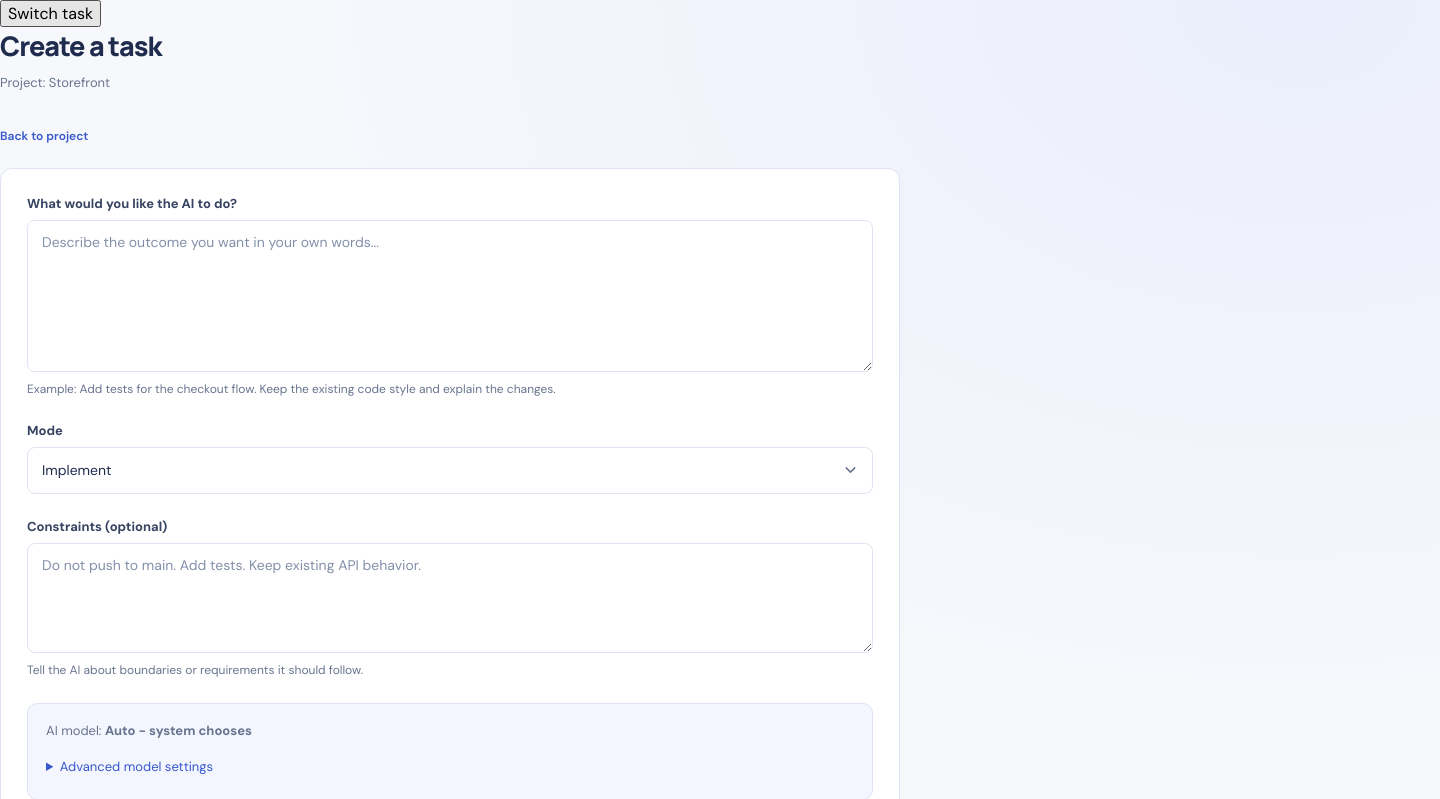
days 10–11 task creation › omits model metadata when backend configuration does not support selection
Type "Add tests" into the text box labelled "What would you like the AI to do?" at (450, 296), box [27, 220, 873, 372]
(page scrolled)
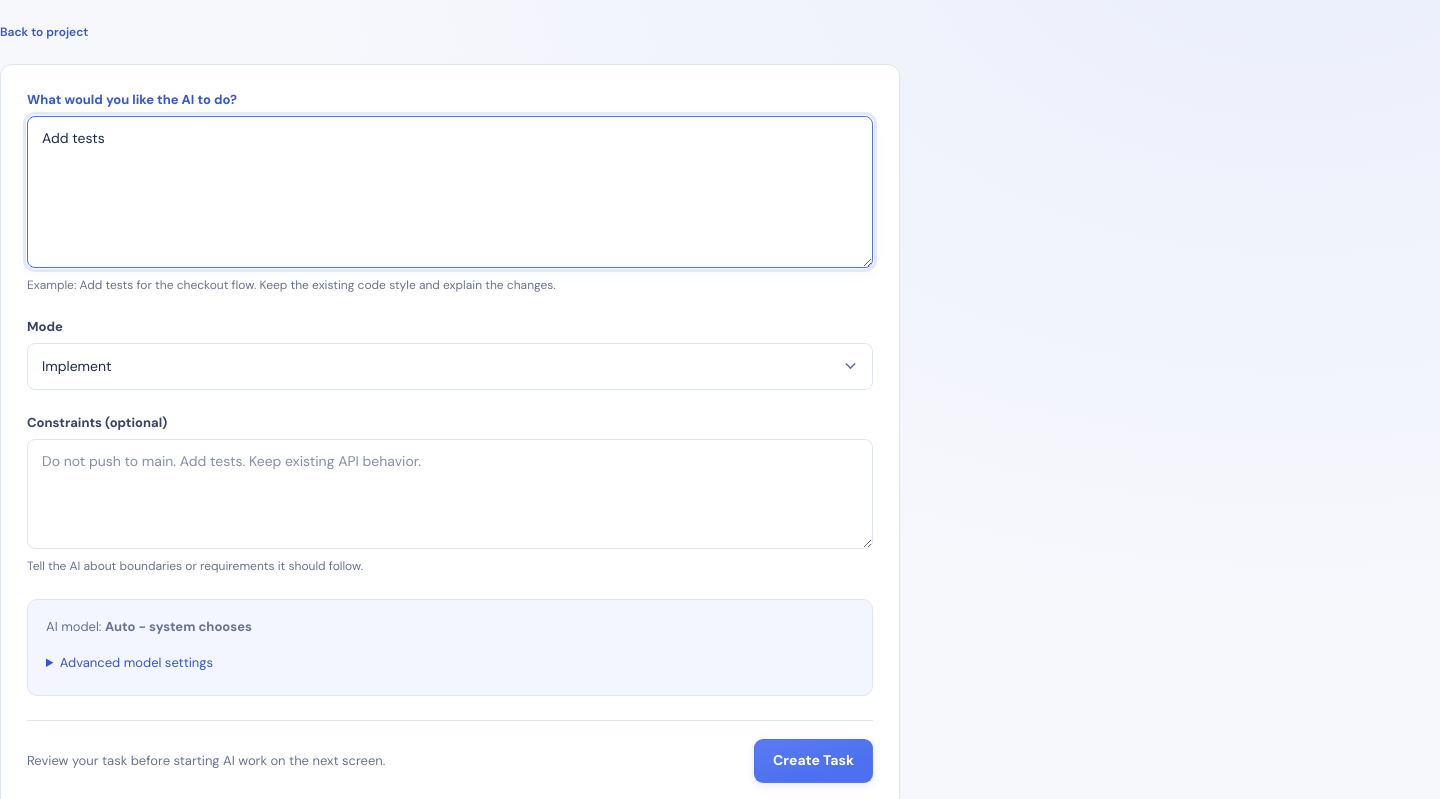
Click the button "Create Task" at (814, 761), box [754, 739, 873, 783]
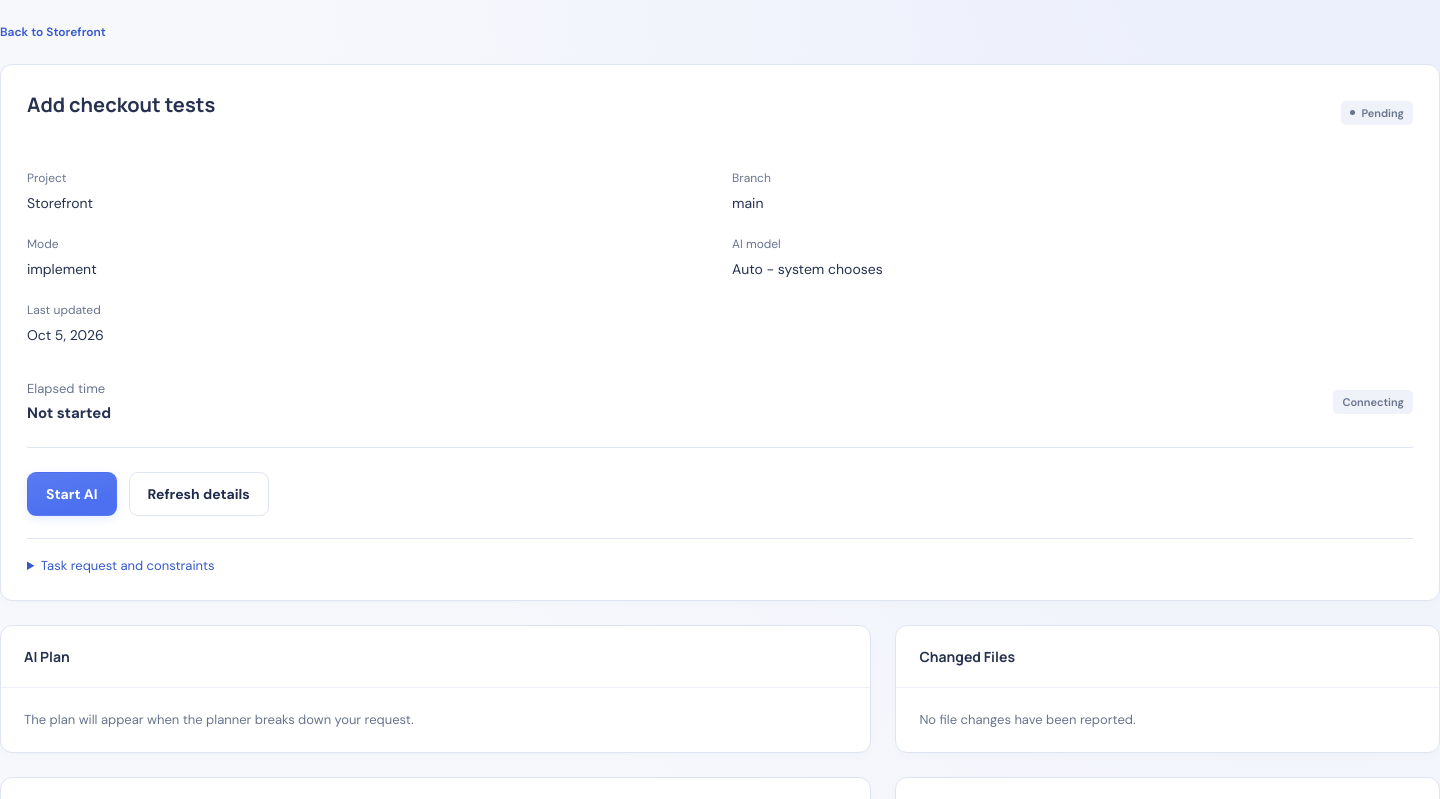
Now the button "Start AI" is shown, box [27, 472, 116, 516]
